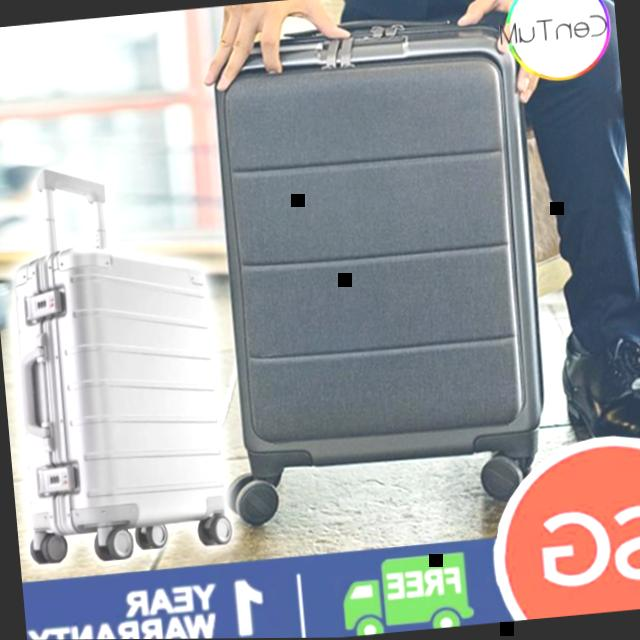luggage: (200, 0, 558, 479), (2, 232, 236, 552)
